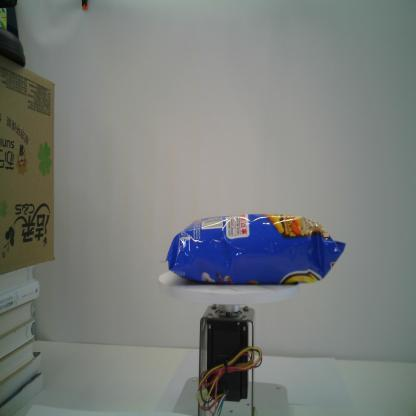Puffed Food: (158, 211, 346, 287)
